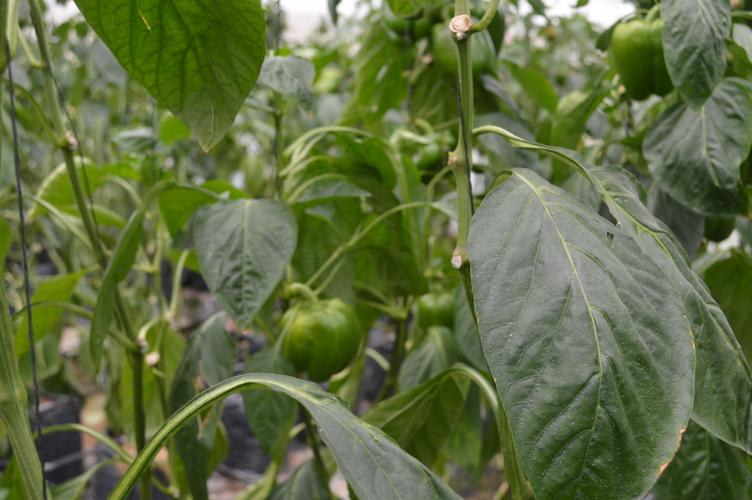BellPepper: (280, 301, 365, 375), (604, 23, 670, 97), (423, 18, 492, 79)
